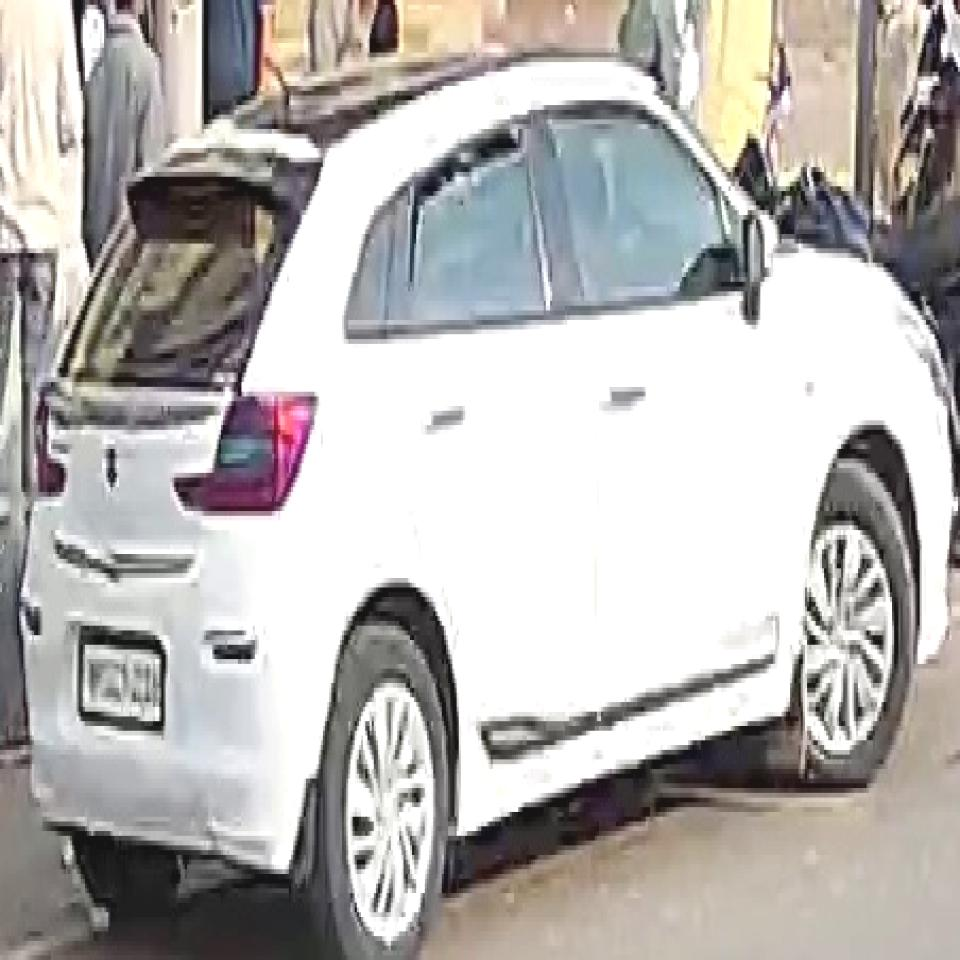tail_light: (219, 388, 312, 520)
